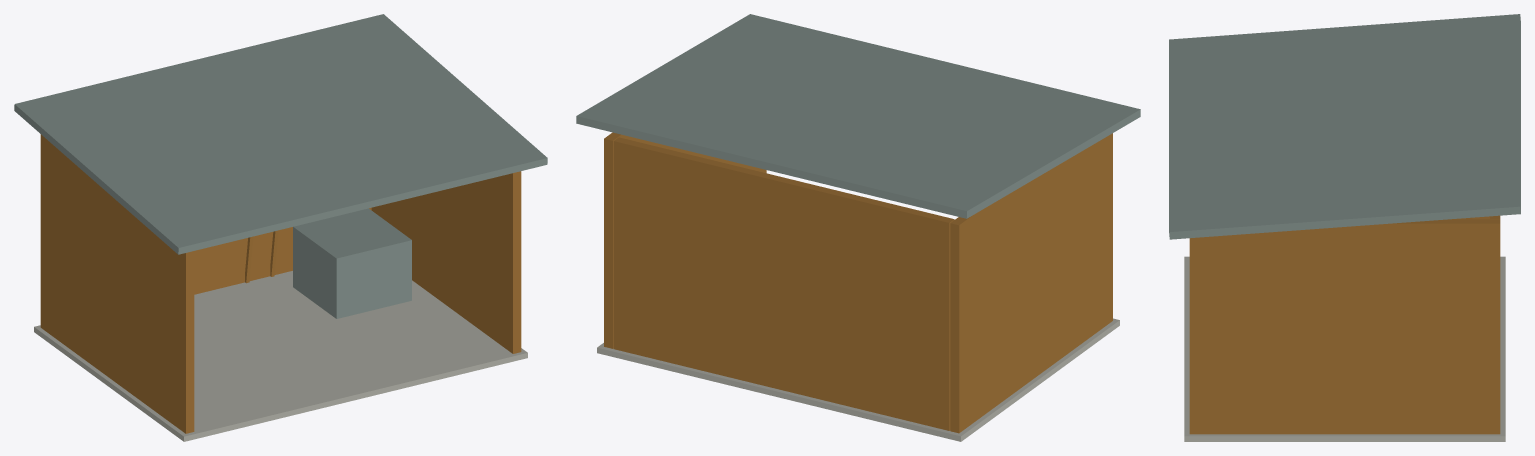
File: SM_CasetaAperos_v1_Madera_LOD0.fbx
3 views of the same model, side by side, from view 1: azimuth 30°, elevation 25°; view 2: azimuth 150°, elevation 25°; view 3: azimuth 270°, elevation 25° (orthographic). The views are drawn at different scales.
Visible parts, largest first — view 1: SM_huerta_nules_v21_LOD0; view 2: SM_huerta_nules_v21_LOD0; view 3: SM_huerta_nules_v21_LOD0.
Boxes of the visible parts, left/top/right/bottom form: SM_huerta_nules_v21_LOD0: left=14, top=14, right=547, bottom=441; SM_huerta_nules_v21_LOD0: left=576, top=14, right=1140, bottom=441; SM_huerta_nules_v21_LOD0: left=1169, top=14, right=1520, bottom=441.
Size of the model in its own units: 4.4 by 2.58 by 3.4.
